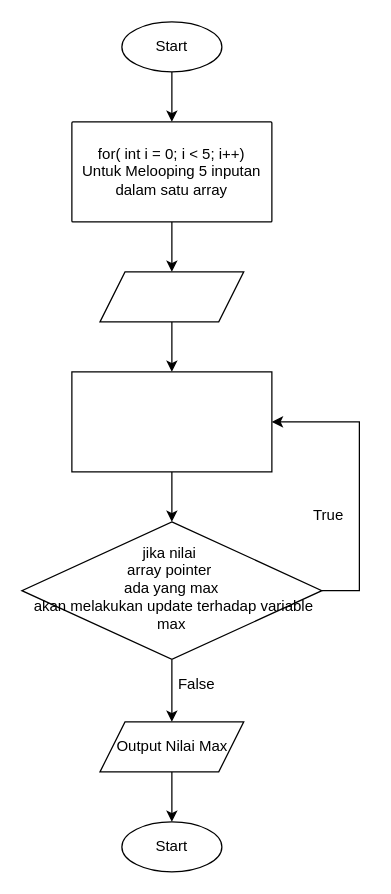
Some shapes in this 391 by 894 pixel diagram are drawn without their labels. Here are the shapes that lost their labels. From the top down, the centre of each, then its label:
(171,296): Input Nilai 1 - 5
(171,421): set max = *ptr; menyetel variable max untuk nilai max dengan looping
